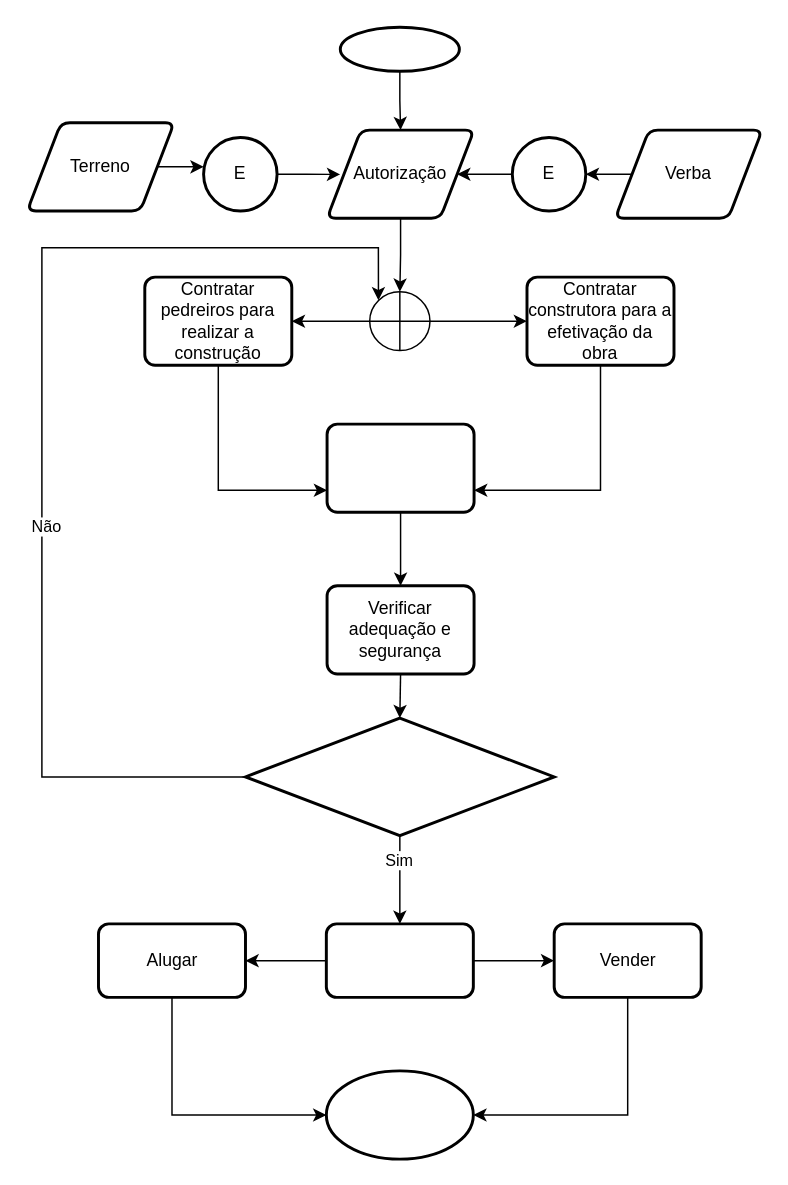
Image size: 788x1185. Some labels were removed from this diagram. The shapes that lost their labels are listed below. From the top down, each one's centre as x and y in pixels, then its label:
At [399,48]: "INICIO".
At [400,467]: "Início da construção".
At [399,776]: "A casa está em conformidade com os parâmetros de segurança?".
At [399,960]: "Casa está pronta.".
At [399,1114]: "FIM".
